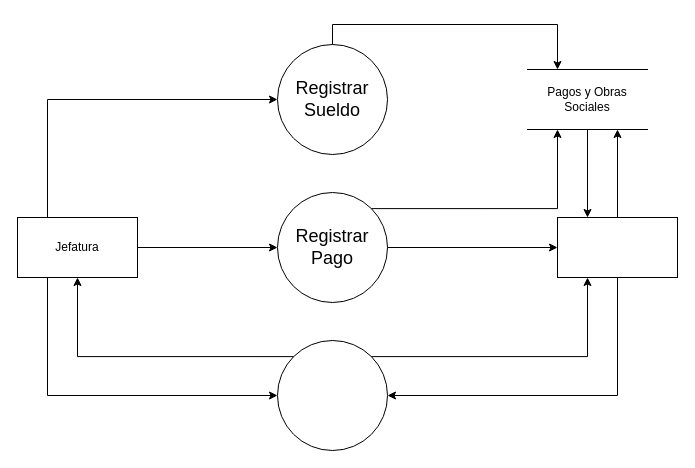
Image size: 695x468. Some labels were removed from this diagram. Each missing label, with the centre of its shape:
"BD obras sociales y Pagos" belongs at [617,247].
"Consultar pago de O.S." belongs at [332,395].
